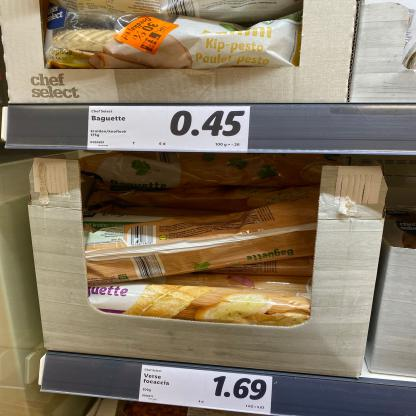prtg: (87, 107, 252, 154), (139, 366, 273, 415)
